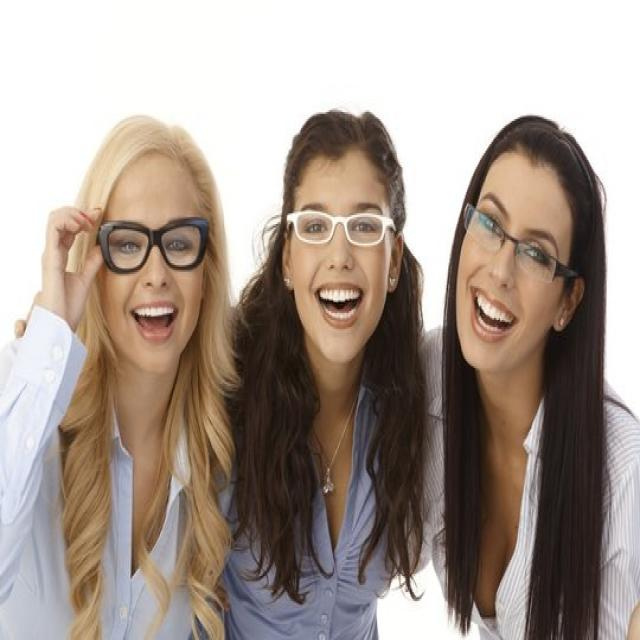Glasses: (463, 202, 578, 286), (96, 218, 212, 275), (286, 210, 396, 247)
